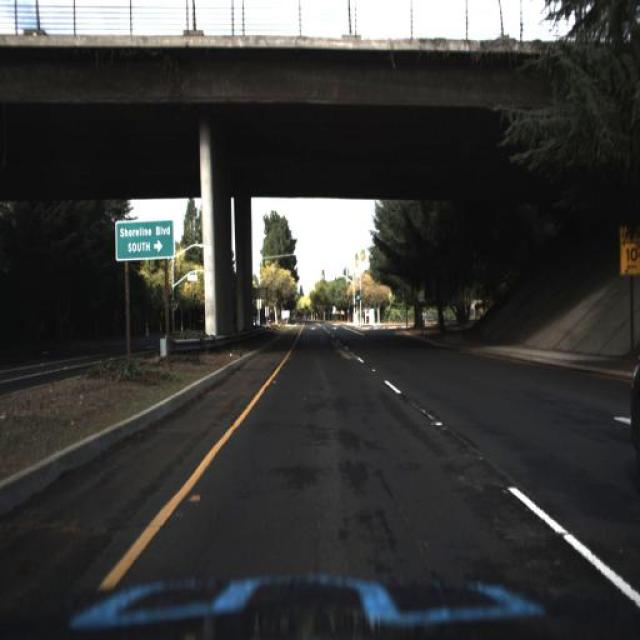trafficLight-GreenLeft: (357, 289, 361, 302), (322, 269, 326, 280)
